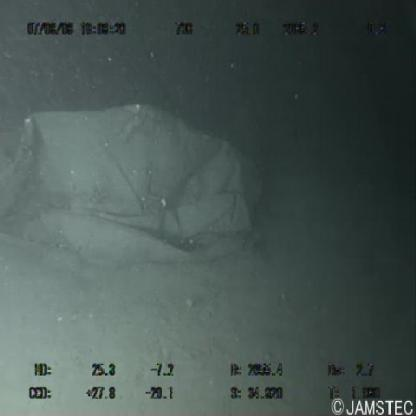Rác: (1, 90, 267, 276)
